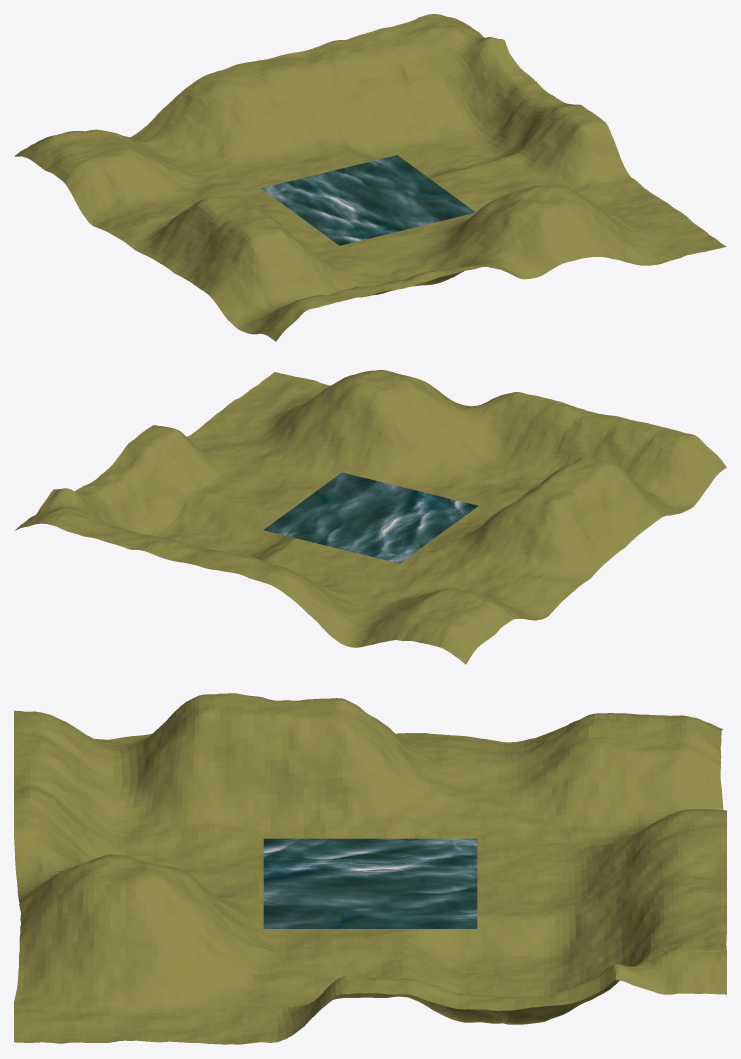
File: lake.obj
3 views of the same model, one above another, from view 1: azimuth 30°, elevation 25°; view 2: azimuth 150°, elevation 25°; view 3: azimuth 270°, elevation 25° (orthographic). The views are drawn at different scales.
Visible parts, largest first — view 1: Plane, Plane.001; view 2: Plane, Plane.001; view 3: Plane, Plane.001.
Boxes of the visible parts, x1,y1,x2,y2 form: Plane: (14, 14, 726, 341); Plane.001: (261, 155, 475, 245); Plane: (15, 370, 726, 664); Plane.001: (263, 472, 478, 563); Plane: (14, 693, 726, 1044); Plane.001: (263, 838, 477, 928).
Bounding box in the file's own units: 1599 × 259 × 1600.
